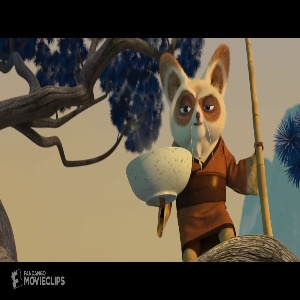shifu: (157, 48, 264, 259)
